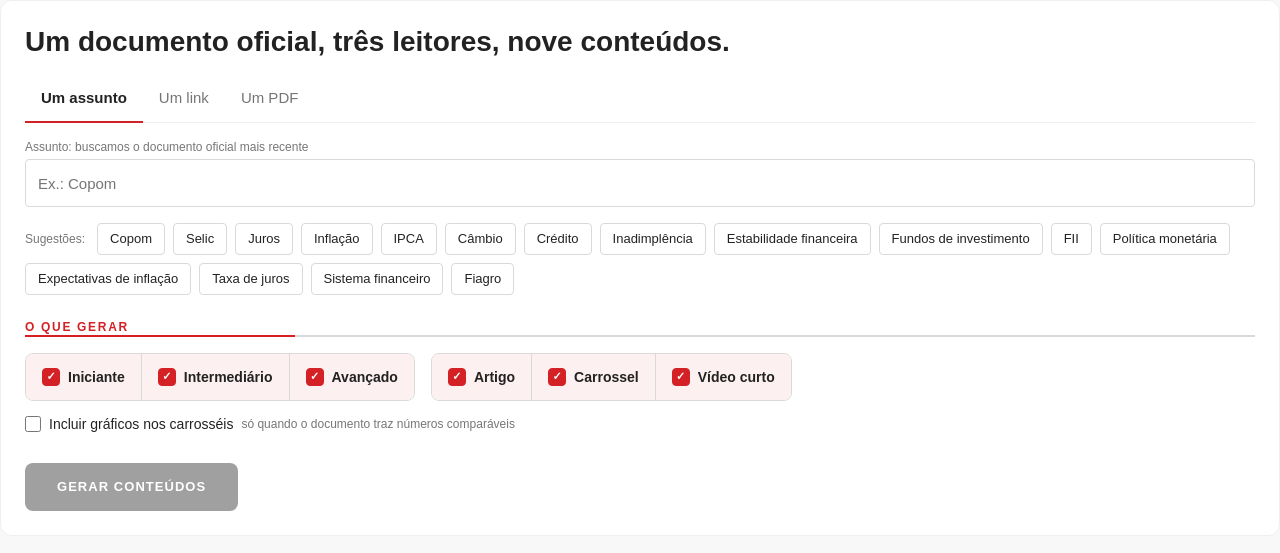
Entrada: escolher o que gerar › envia só os níveis e formatos marcados e bloqueia quando nada está marcado
In the field labelled "Assunto: buscamos o documento oficial mais recente": (640,183) [25,159,1255,207], type "Copom"
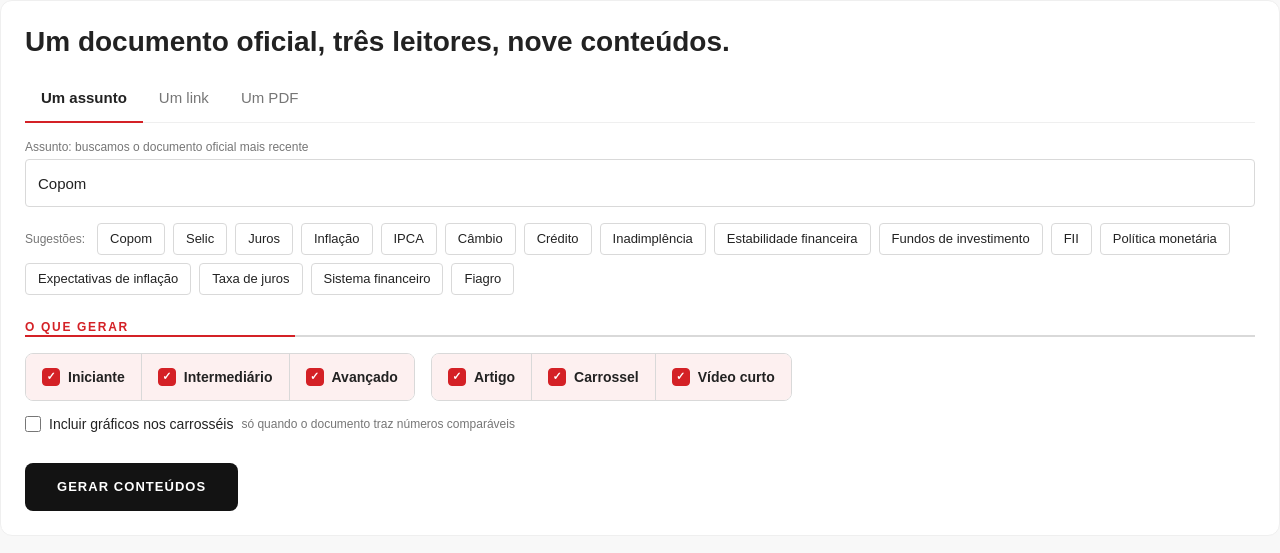
Click the checkbox labelled "Intermediário": (216,377) [142,354,290,400]
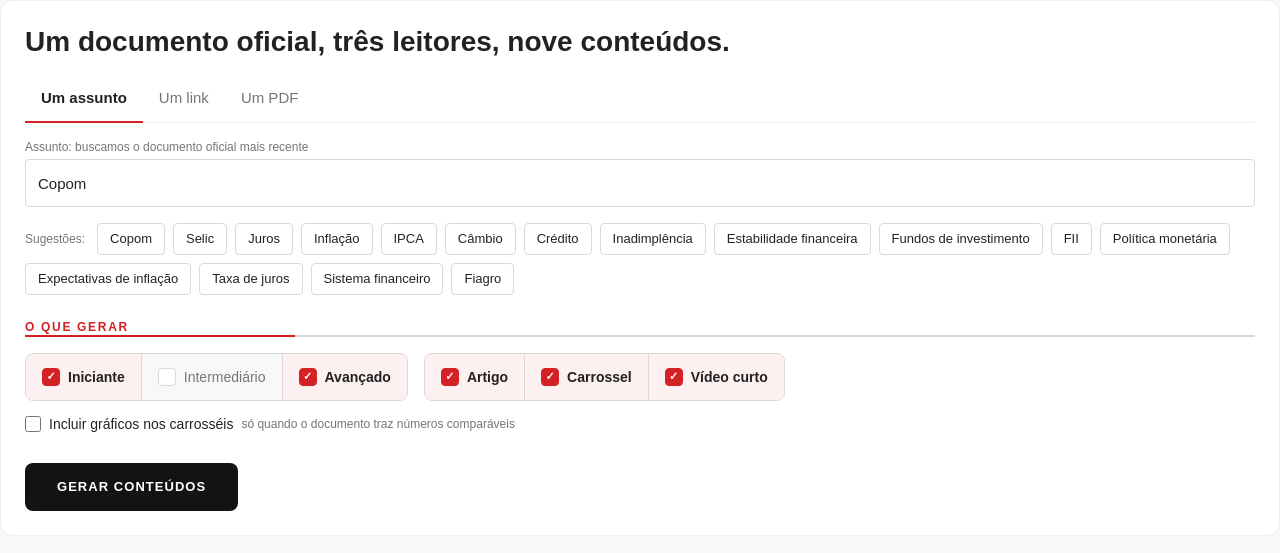
Click the checkbox labelled "Avançado": (345,377) [282,354,407,400]
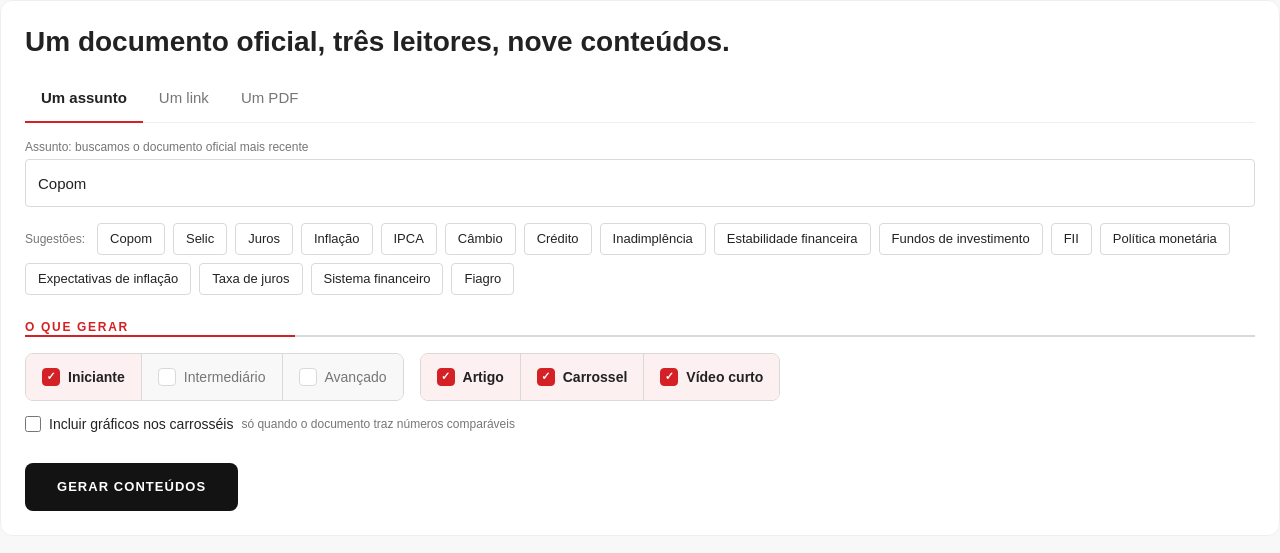
Click the checkbox labelled "Vídeo curto": (712,377) [644,354,779,400]
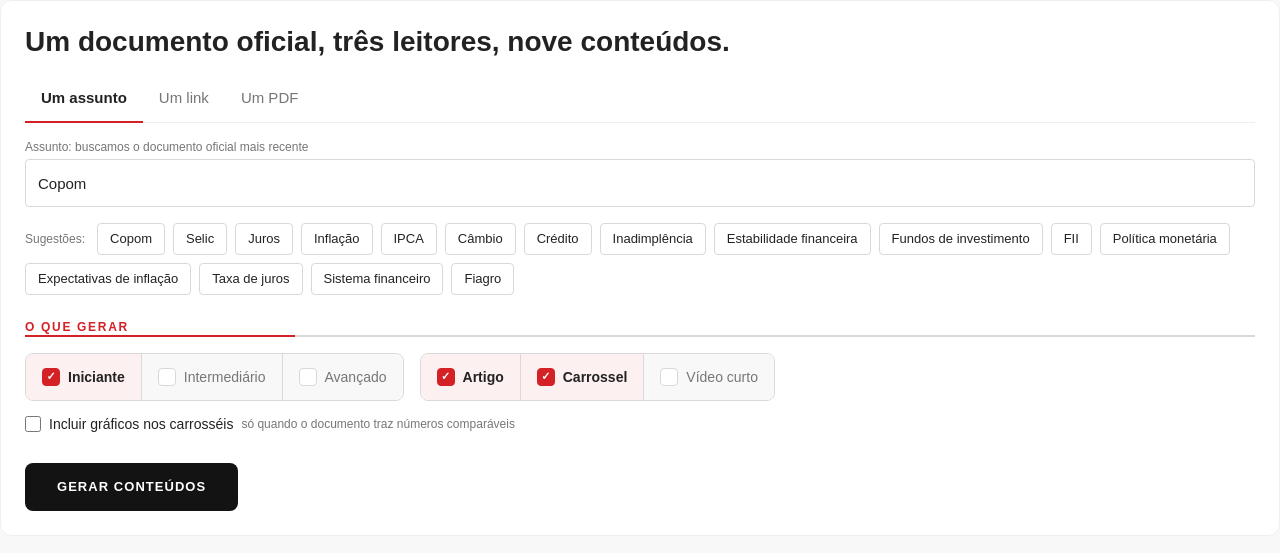
Submit the form named "Gerar conteúdos"
Click the checkbox labelled "Iniciante": (84,377) [26,354,142,400]
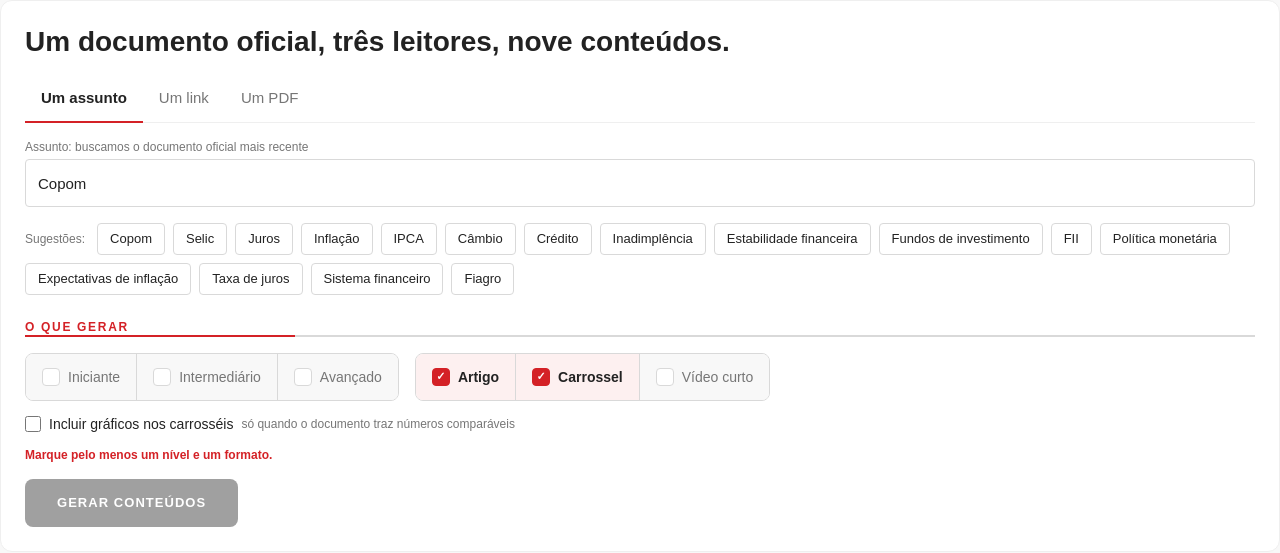
Result: the button "Gerar conteúdos" is disabled at [25,479,238,527]
Result: the text "Marque pelo menos um nível e um formato." is shown at [25,448,272,462]
